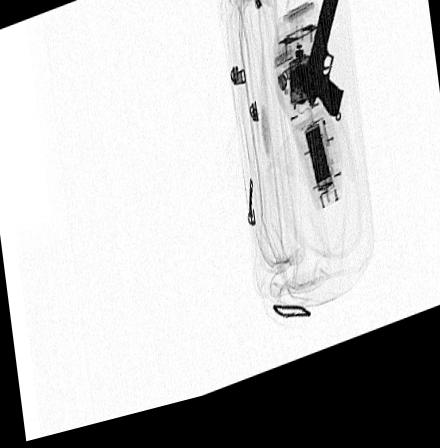Gun: (298, 3, 341, 135)
